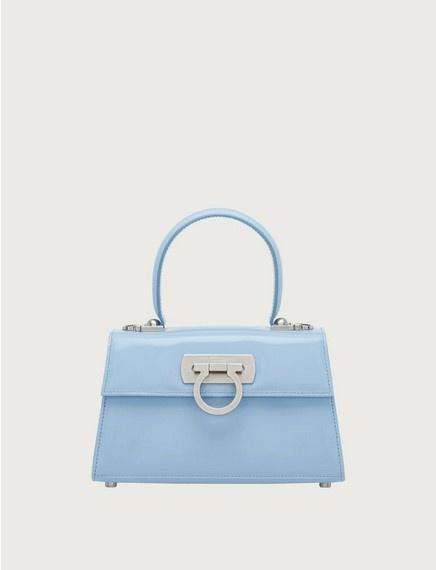FERRAGAMO: (176, 349, 262, 424)
